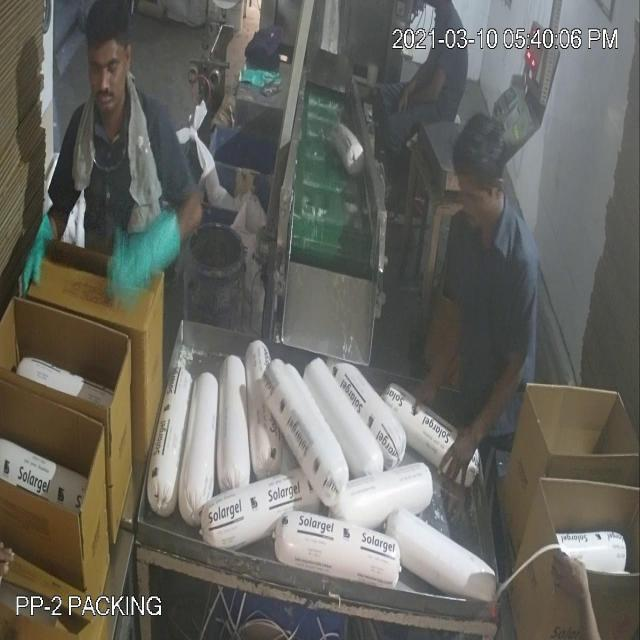No_Gloves: (42, 54, 491, 414)
